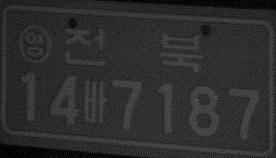1: (150, 82, 181, 133), (14, 73, 43, 122)
4: (47, 76, 78, 125)
7: (227, 87, 260, 139), (110, 78, 140, 130)
8: (187, 86, 219, 137)
바: (81, 80, 106, 125)
영: (18, 24, 52, 64)
전북_D: (62, 26, 201, 74)
